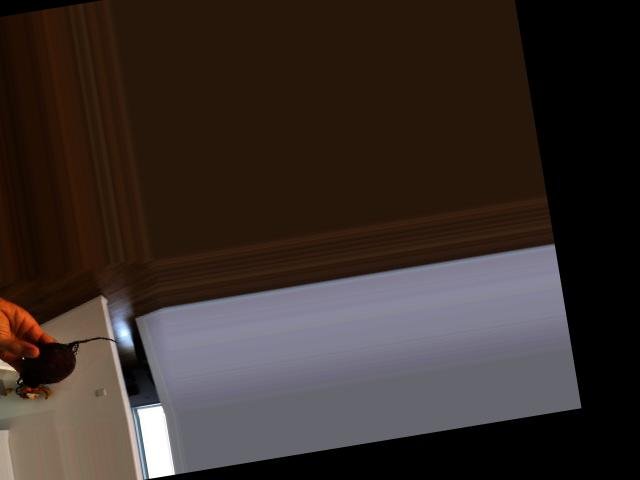beet: (12, 332, 123, 389)
